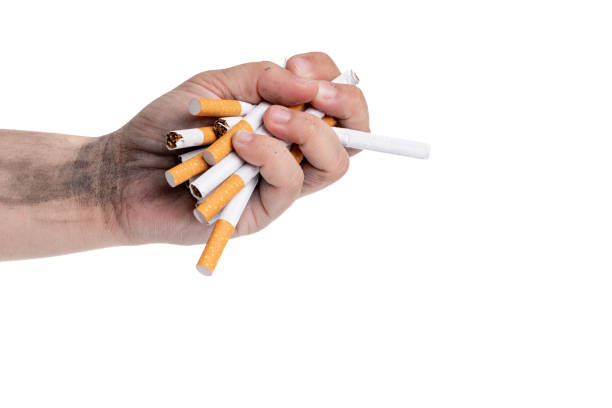cigarette: (194, 173, 260, 278), (204, 98, 271, 168), (193, 161, 260, 226), (330, 125, 431, 159), (189, 151, 246, 200), (164, 152, 209, 188), (186, 97, 255, 118), (164, 125, 218, 151), (211, 116, 245, 136), (331, 69, 360, 88), (177, 146, 209, 163), (289, 144, 302, 166)
